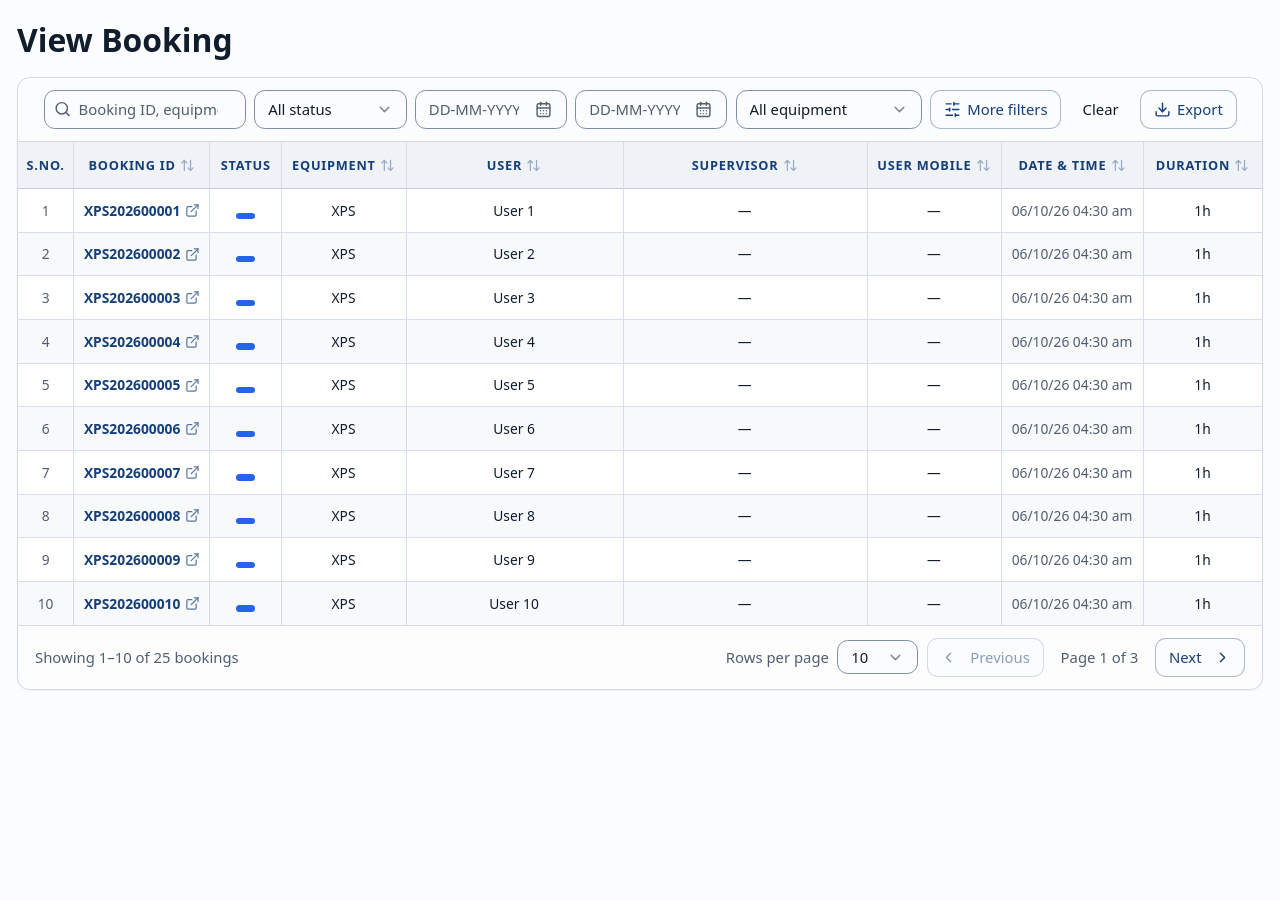
View Booking (staff) live filters › applies a date change immediately and goes back to page 1
Expected: the button "XPS202600001" is shown, [84,200,200,221]
Click the button "Next". click: (1200, 657)
box: [1155,638,1245,677]
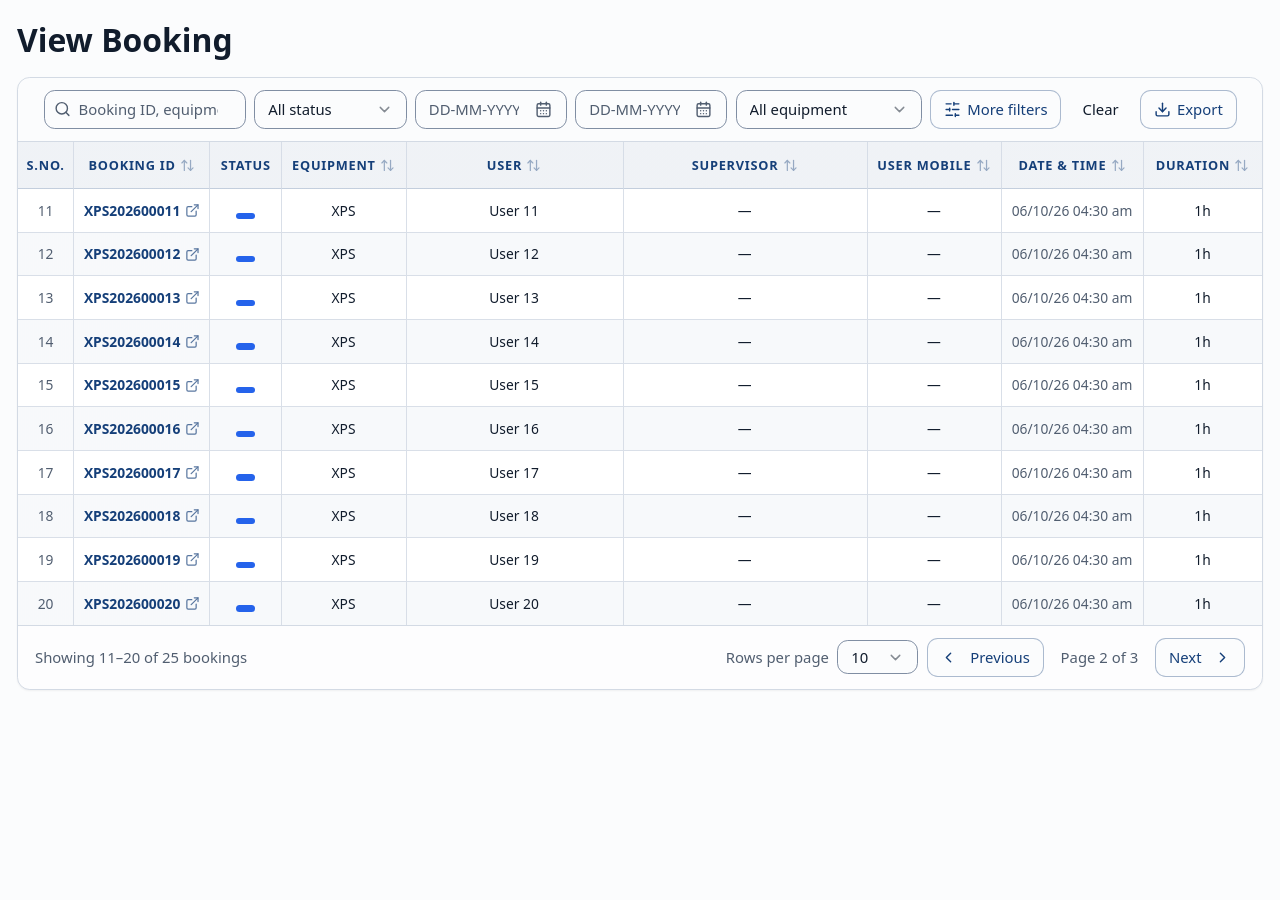
Type "01-10-2026" into the field named "Start date". click: (491, 109)
box: [415,90,567,129]
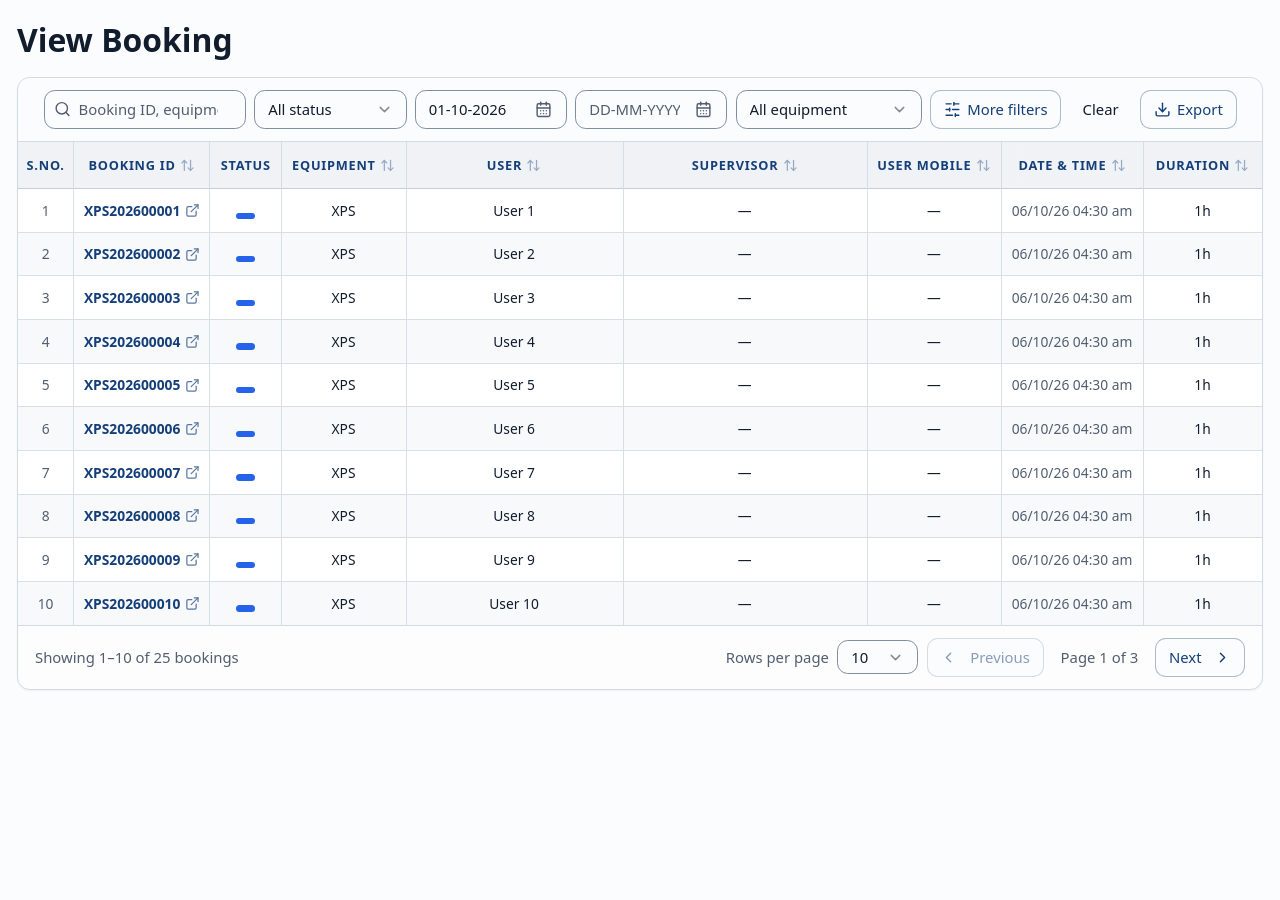
Result: the text "Page 1 of 3" is shown at [1061,647,1138,667]
